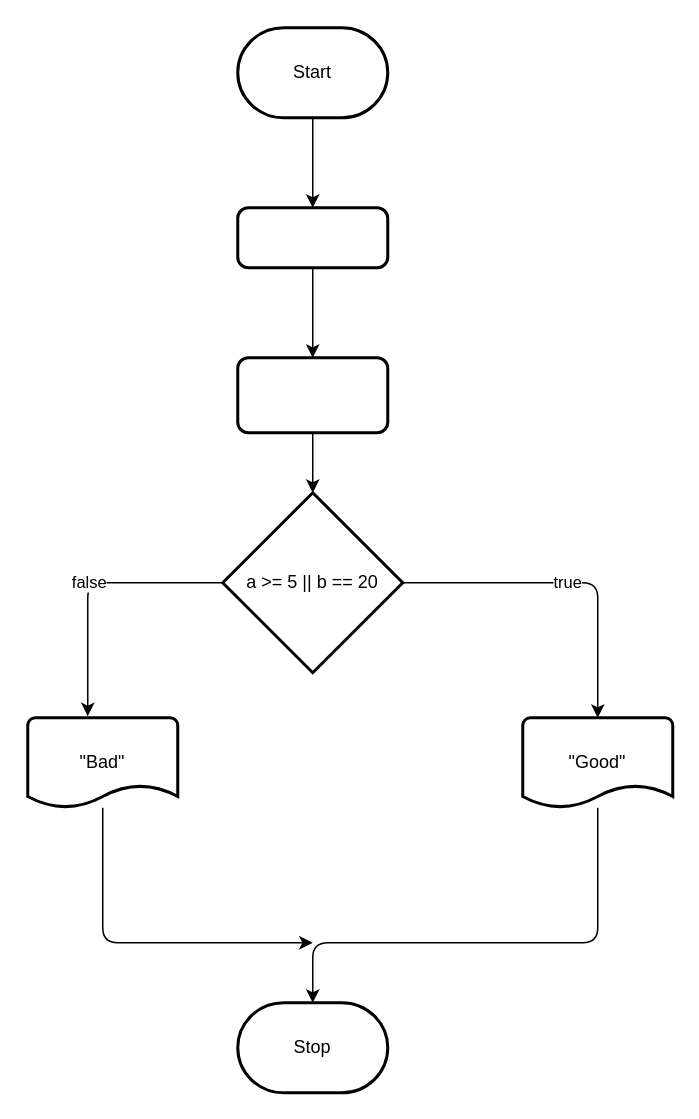
Image size: 699x1119. Some labels were removed from this diagram. Here are the shapes that lost their labels. From the top down, the centre of each, then its label:
At point 312,237: "a, b".
At point 312,395: "a = 10 b = 20".
